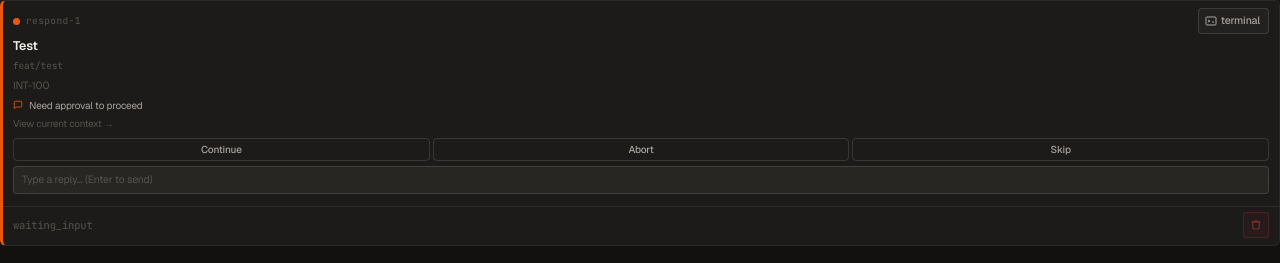
Test: SessionCard › prevents duplicate quick-reply preset sends while a send is in flight
Click the button "Continue" at (221, 149), box [13,138,430,161]
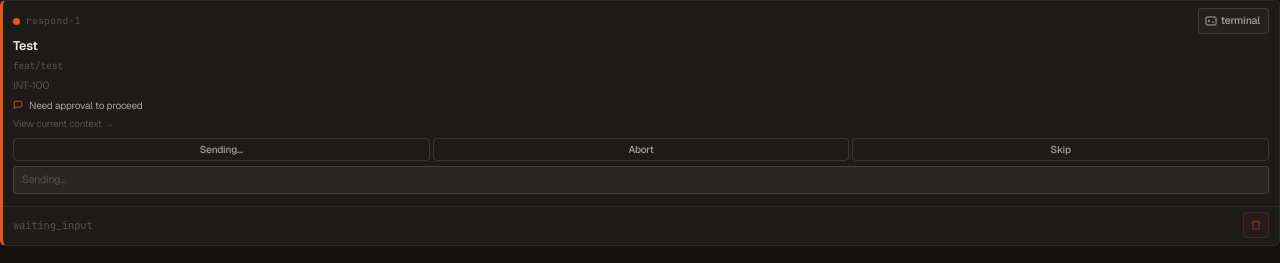
Check: the button "Sending..." is disabled, box [13,138,430,161]
Check: the text box named "type a reply to the agent" is disabled, box [13,166,1269,194]
Click the button "Abort" at (641, 149), box [433,138,849,161]
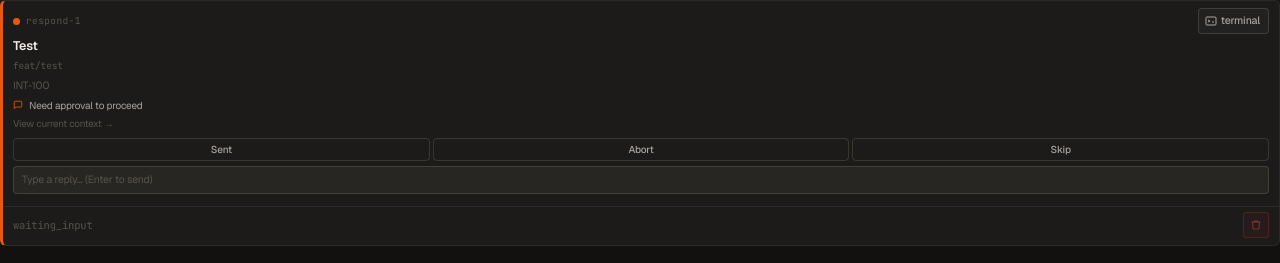
Check: the button "Sent" is shown, box [13,138,430,161]
